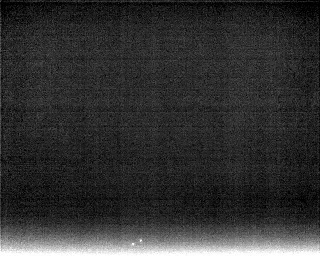BIRD: (136, 236, 144, 245)
